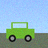vehicle: (6, 22, 34, 42)
